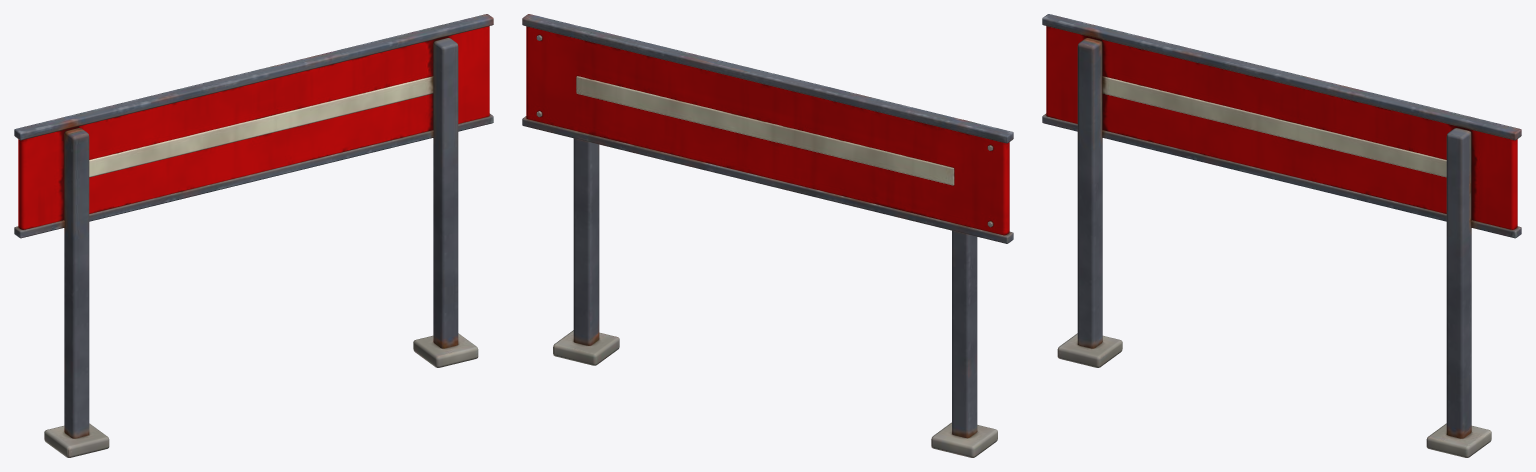
The model's file is zone_board.glb.
The picture shows the model from 3 angles, left to right: view 1: azimuth 30°, elevation 25°; view 2: azimuth 150°, elevation 25°; view 3: azimuth 330°, elevation 25°; orthographic projection. The views are drawn at different scales.
Parts seen in each view (by area): view 1: body; view 2: body; view 3: body.
Part boxes in pixels (x1,y1,x2,y2): body: (14,14,493,457); body: (522,14,1013,457); body: (1042,14,1521,457).
Size of the model in its own units: 3.34 by 2.17 by 0.3.
Materials: 1 (1 with a texture image).
